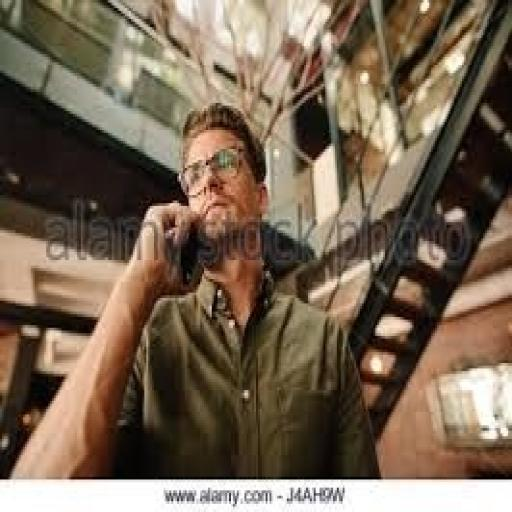calling: (8, 100, 383, 480)
